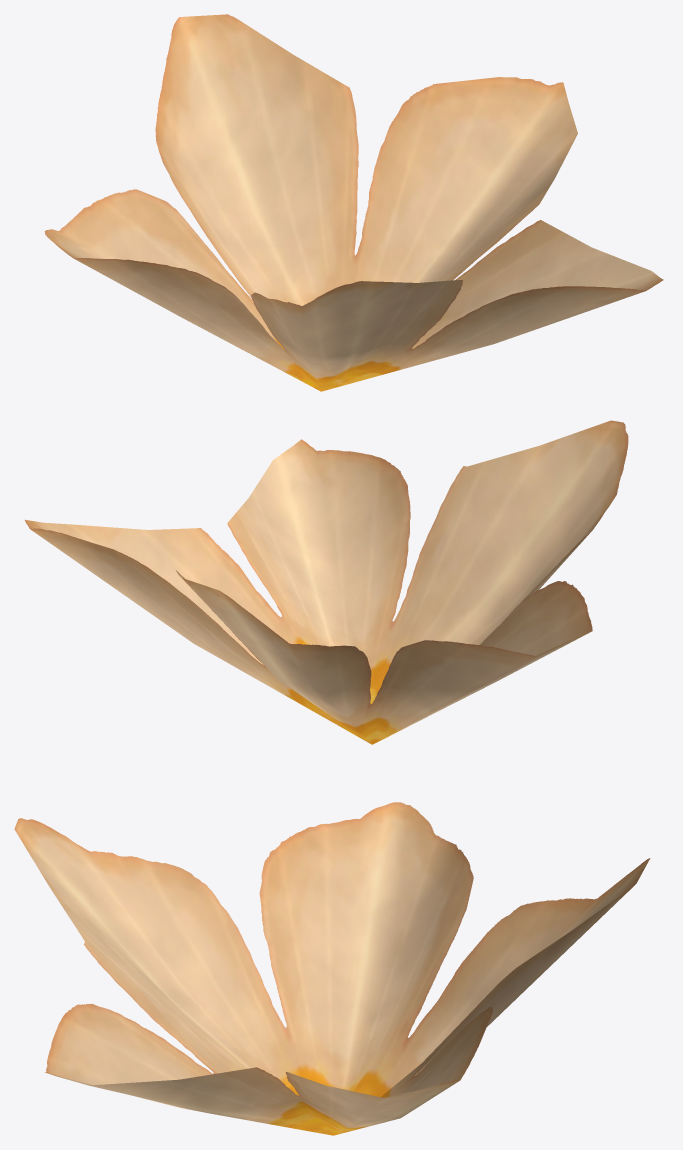
Rendered from Petal_2.gltf.
3 views of the same model, one above another, from view 1: azimuth 30°, elevation 25°; view 2: azimuth 150°, elevation 25°; view 3: azimuth 270°, elevation 25° (orthographic). The views are drawn at different scales.
Parts seen in each view (by area): view 1: Petal_2; view 2: Petal_2; view 3: Petal_2.
Boxes of the visible parts, x1,y1,x2,y2 form: Petal_2: [44, 14, 663, 391]; Petal_2: [25, 420, 628, 744]; Petal_2: [14, 802, 650, 1135].
Bounding box in the file's own units: 0.6778 × 0.304 × 0.6319.
1 material, 1 textured.
